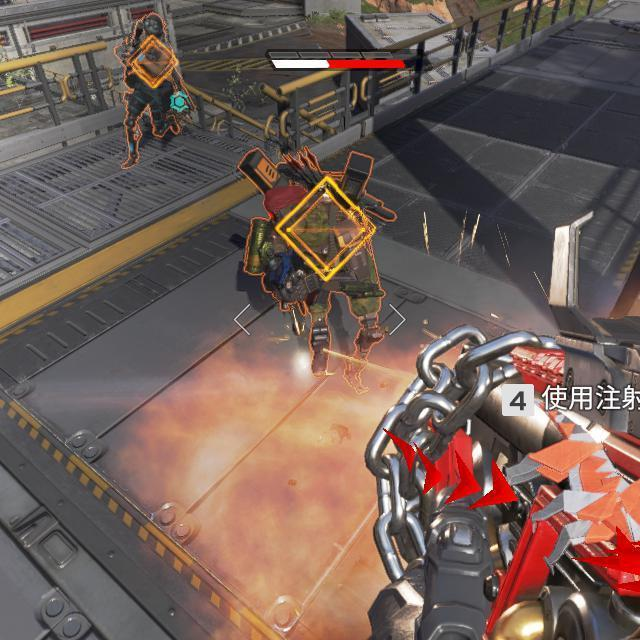avatar: (233, 146, 397, 388), (115, 12, 181, 170)
object: (274, 175, 378, 281), (128, 35, 179, 90)
